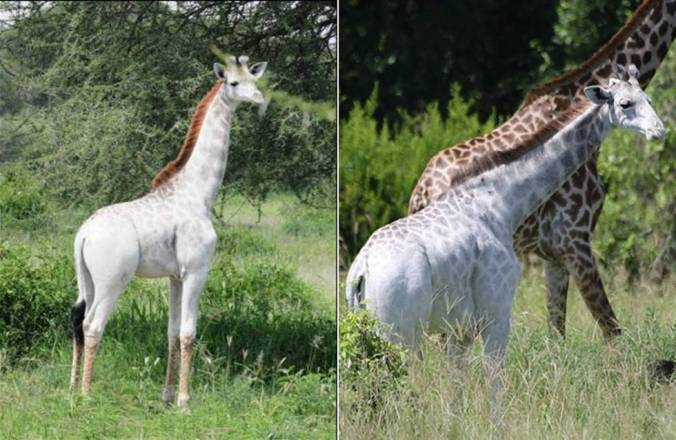Jirafa: (145, 39, 305, 264)
